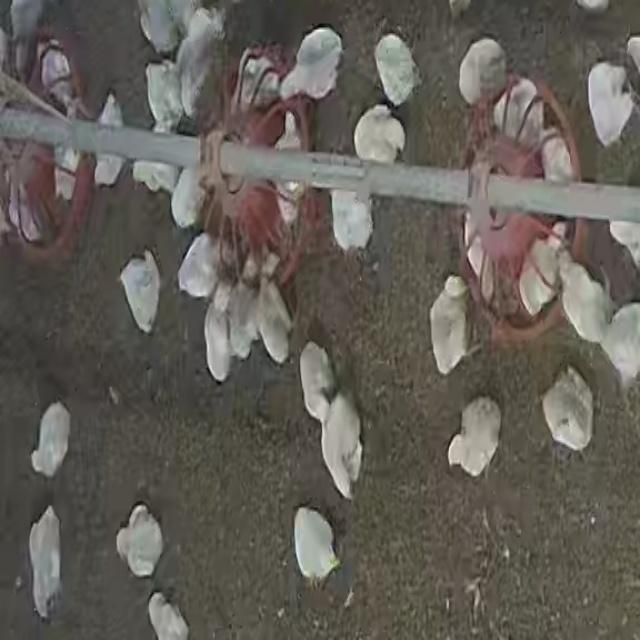chicken: (173, 8, 226, 118), (317, 399, 373, 498), (278, 27, 344, 104), (556, 254, 610, 346), (542, 363, 596, 452), (517, 220, 567, 316), (438, 398, 502, 472), (429, 279, 477, 371), (270, 112, 309, 223), (586, 60, 634, 148), (28, 508, 64, 619), (256, 253, 292, 364), (372, 33, 422, 106), (293, 507, 341, 583), (115, 504, 164, 578), (119, 251, 161, 335), (456, 38, 506, 108), (90, 97, 127, 187), (228, 260, 261, 360), (352, 105, 405, 165), (492, 78, 540, 144), (30, 403, 71, 479), (144, 60, 186, 131), (329, 190, 372, 259), (203, 294, 234, 382), (178, 234, 217, 297), (137, 1, 181, 54), (300, 342, 332, 413), (170, 166, 202, 227)
